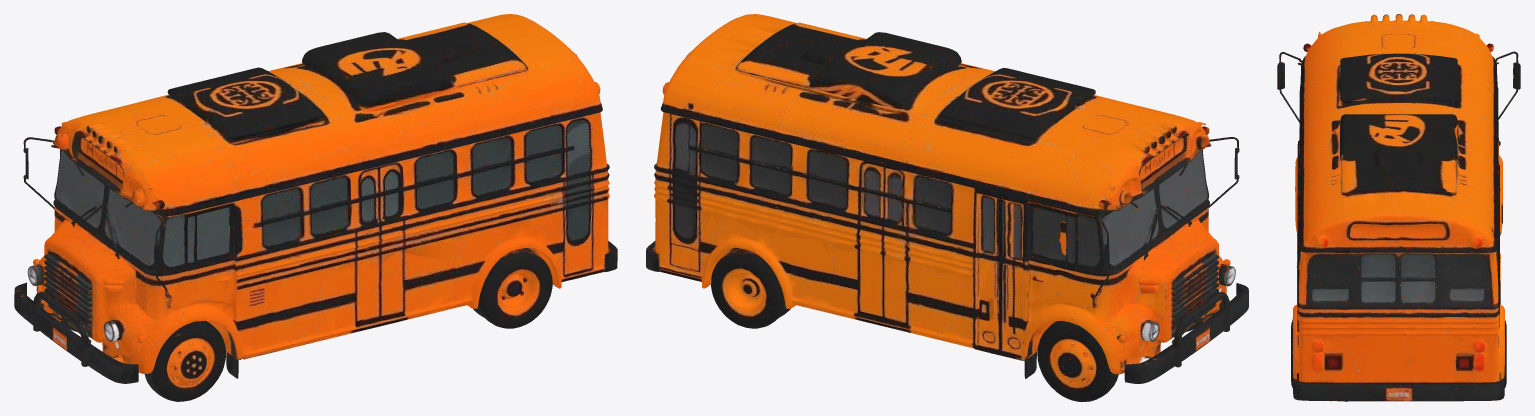
File: hoopbus.glb
The picture shows the model from 3 angles, left to right: view 1: azimuth 30°, elevation 25°; view 2: azimuth 150°, elevation 25°; view 3: azimuth 270°, elevation 25°; orthographic projection. The views are drawn at different scales.
Parts seen in each view (by area): view 1: Mesh_0; view 2: Mesh_0; view 3: Mesh_0.
Boxes of the visible parts, <box> form: Mesh_0: <box>14,14,617,401</box>; Mesh_0: <box>646,14,1248,401</box>; Mesh_0: <box>1277,14,1520,401</box>.
Bounding box in the file's own units: 9 × 4.18 × 4.14.
1 material, 1 textured.
